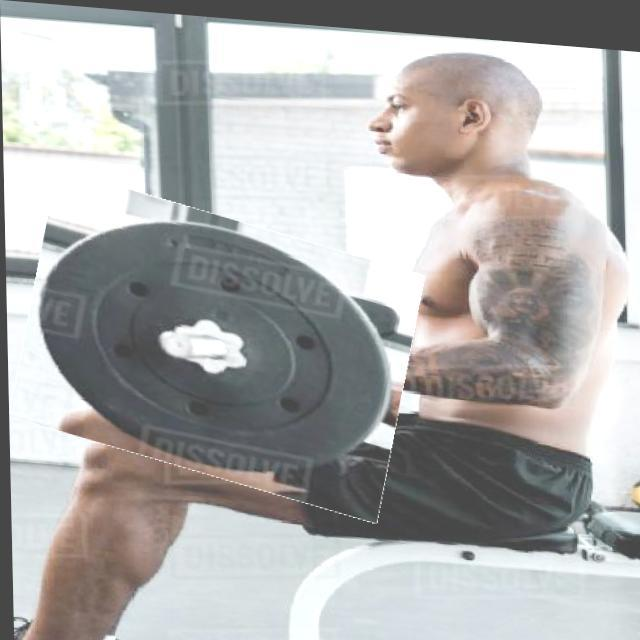barbell: (16, 184, 418, 503)
